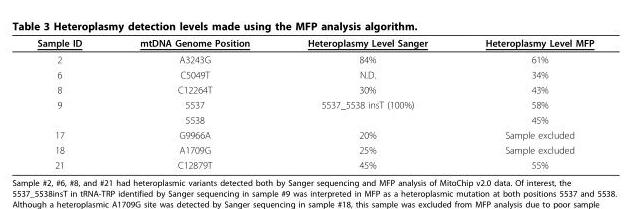table: (36, 36, 593, 170)
table column: (278, 36, 455, 170), (110, 36, 278, 170), (455, 36, 593, 170), (36, 36, 110, 170)
table column header: (36, 36, 593, 50)
table row: (36, 50, 593, 66), (36, 96, 593, 112), (36, 66, 593, 81), (36, 81, 593, 96), (36, 112, 593, 127), (36, 127, 593, 142), (36, 142, 593, 157), (36, 36, 593, 50), (36, 157, 593, 170)
table spanning cell: (36, 96, 110, 127)
